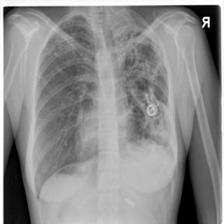tuberculosis: (24, 7, 180, 211)
